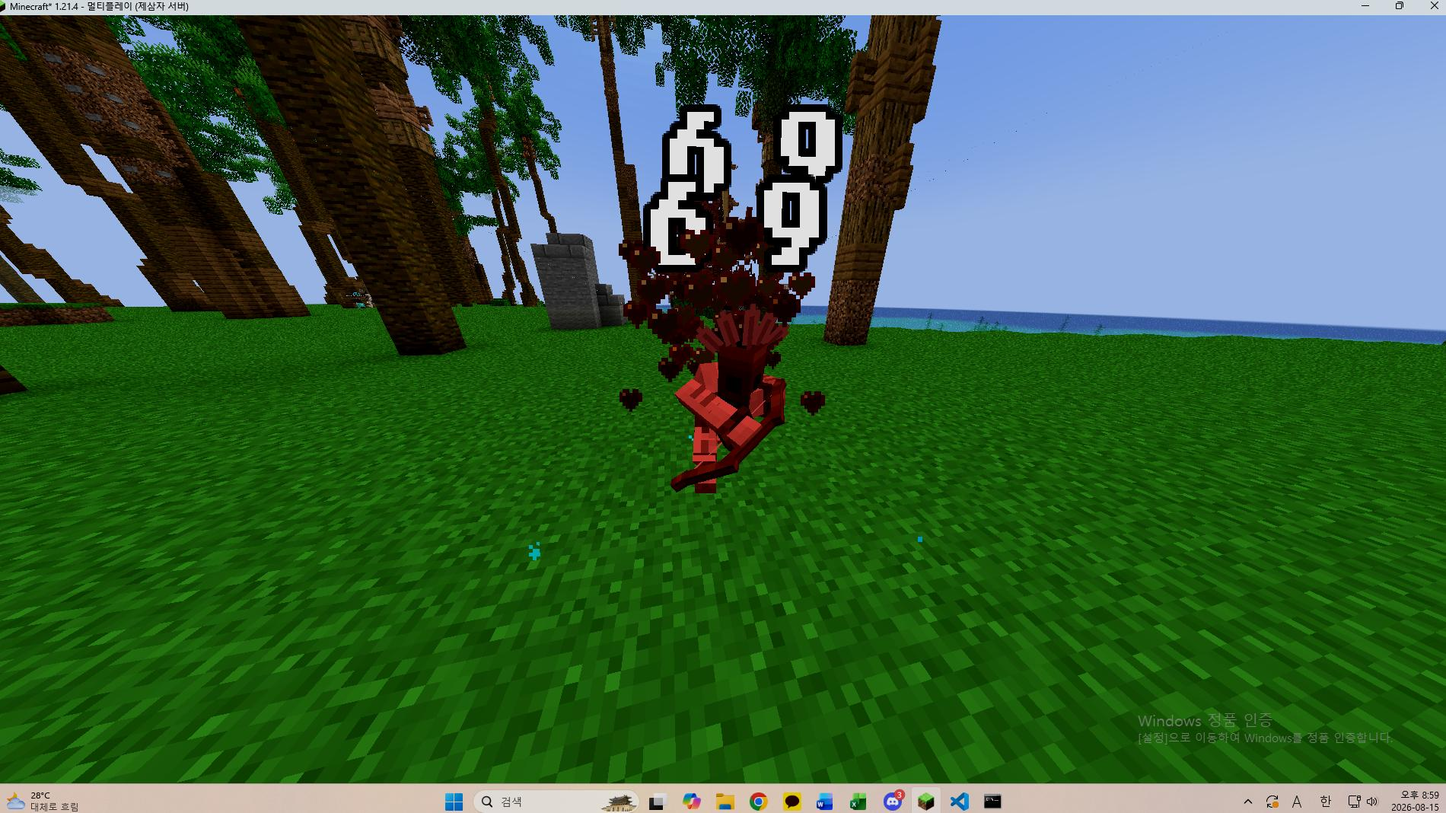bow_indian: (631, 273, 862, 514)
